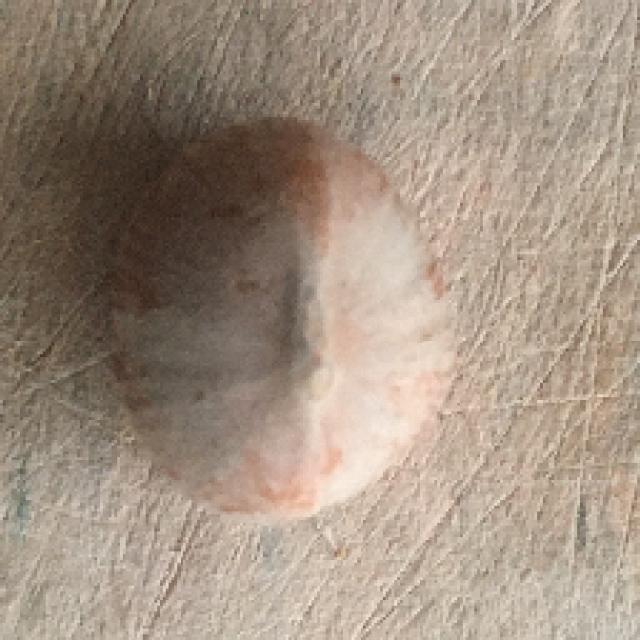qualityHazelnut: (104, 115, 457, 527)
